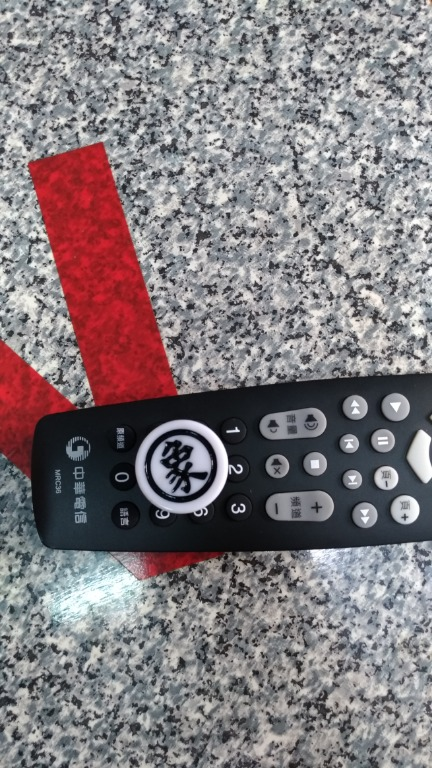b-elephant: (122, 407, 266, 538)
